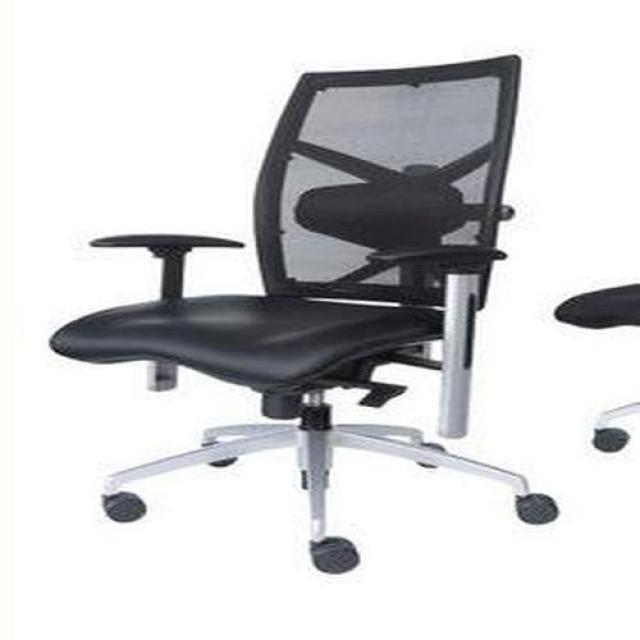swivelchair: (49, 56, 558, 577)
